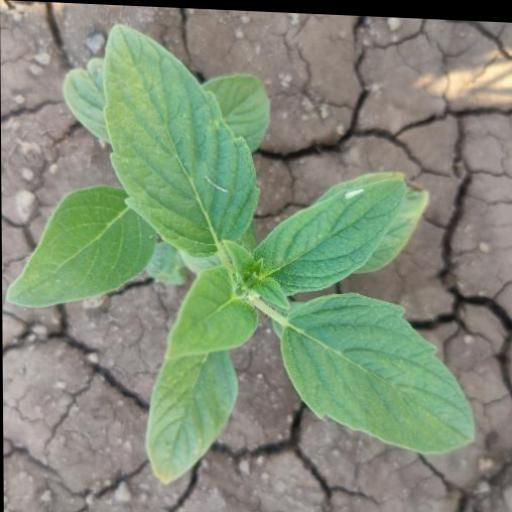crop: (11, 23, 478, 493)
